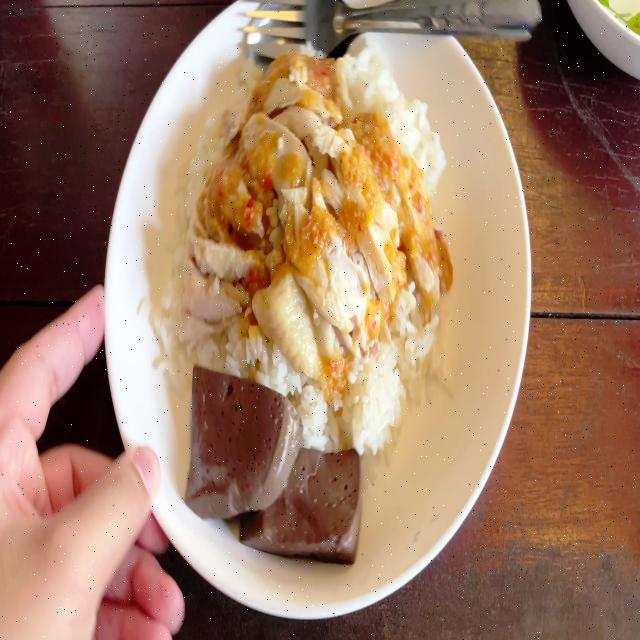boiled_chicken: (208, 61, 414, 362)
boiled_chicken_blood_jelly: (185, 362, 287, 507), (244, 440, 359, 558)
chicken_rice: (160, 36, 453, 566)
